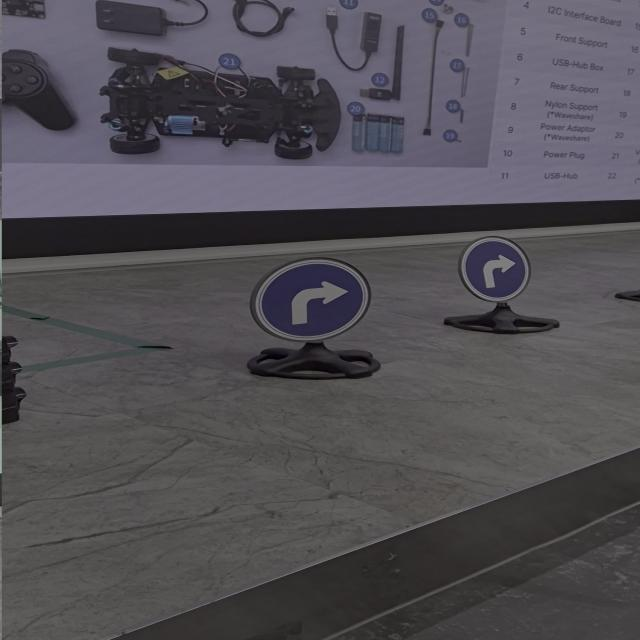right_dierection: (242, 250, 392, 344)
